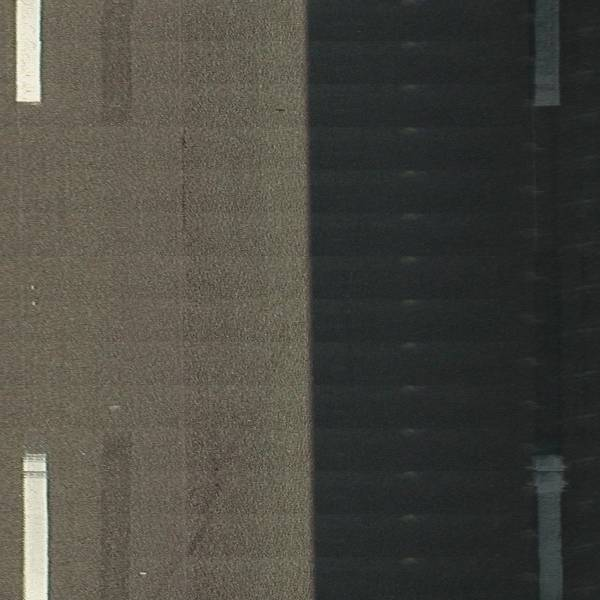road_damage: (183, 444, 233, 563), (177, 127, 196, 236)
